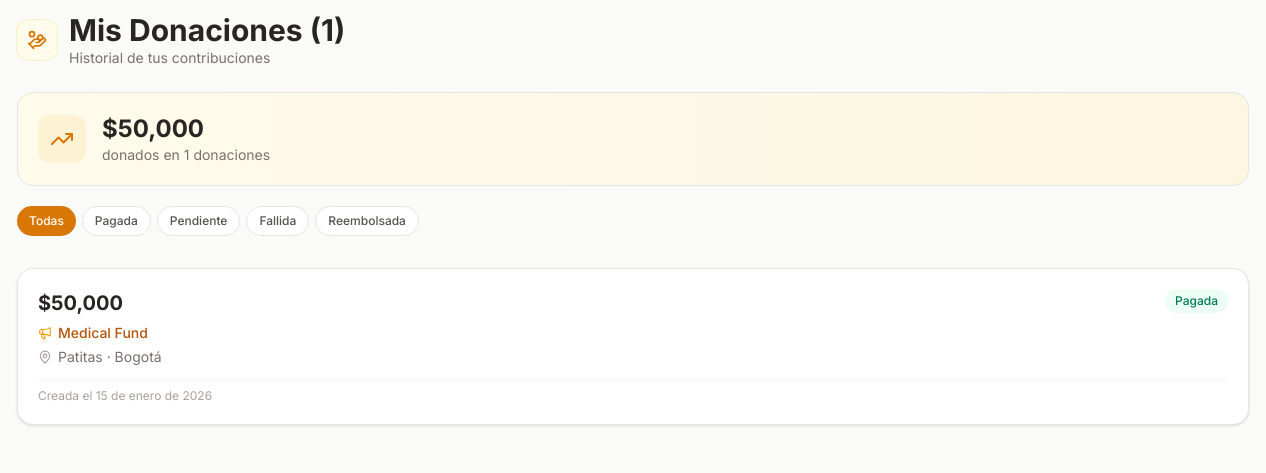
MisDonacionesPage › shows empty filter state and clear button when filter matches nothing
# Click "Fallida" filter - no donations match
Step 1. Click the button "Fallida" → (278, 221), box [246,206,309,236]
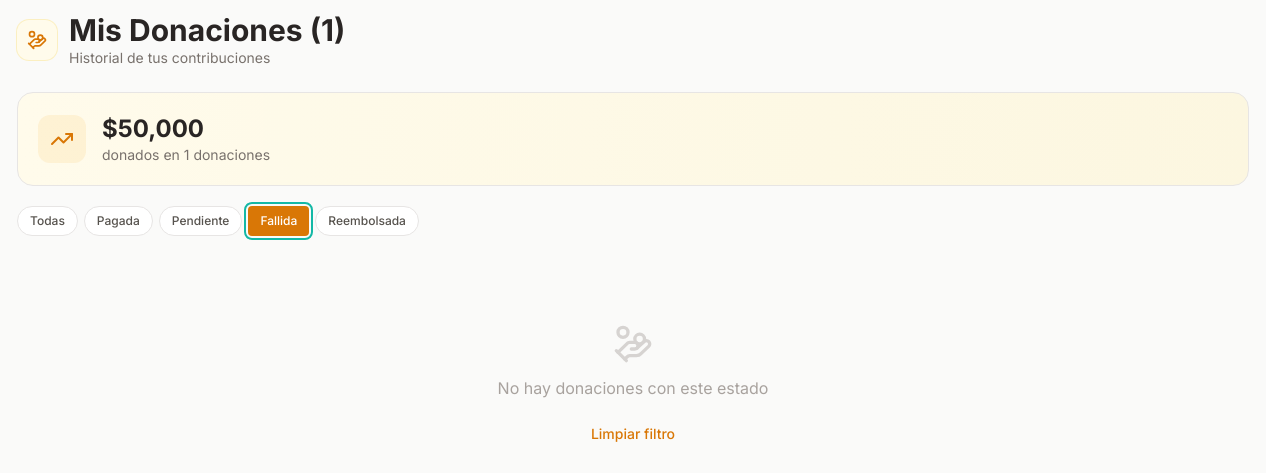
Check: the text "No hay donaciones con este estado" is shown, box [498,378,768,398]
# Click clear filter
Step 2. Click the button "Limpiar filtro" → (633, 434), box [591,412,675,456]
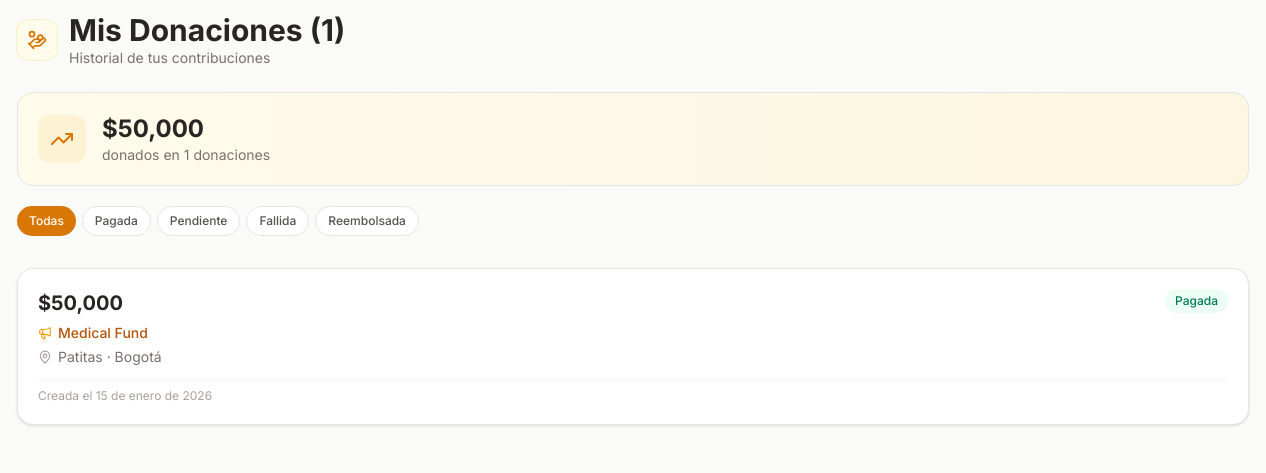
Check: the text "Medical Fund" is shown, box [58,323,148,343]
